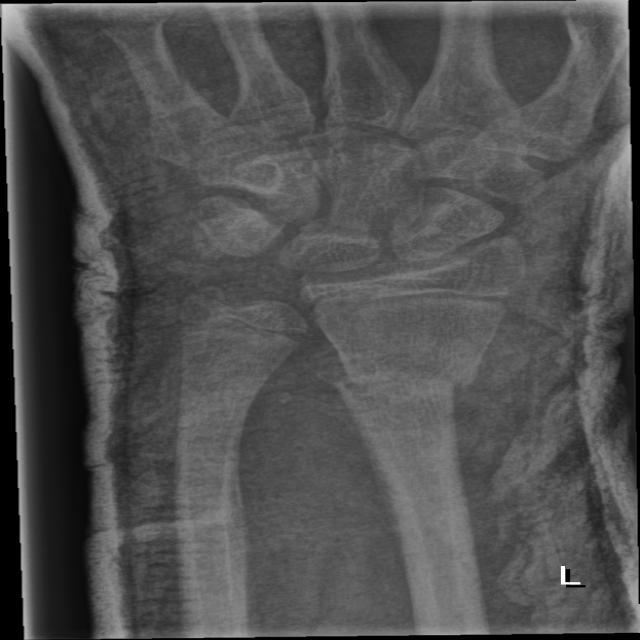radius fracture: (326, 339, 512, 450)
